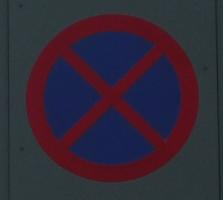No Parking: (28, 17, 200, 187)
